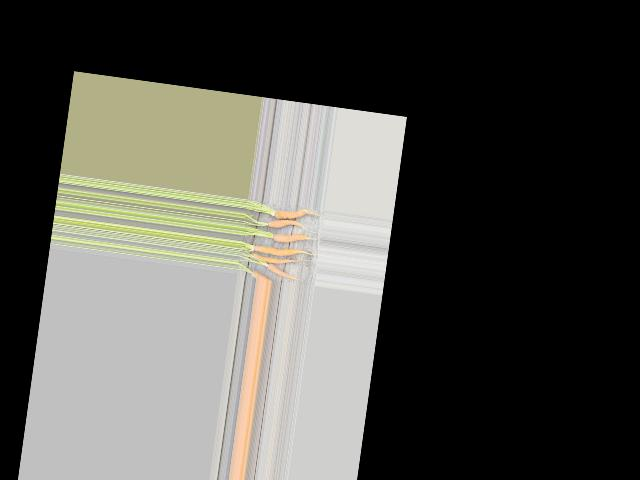carrot: (243, 266, 267, 280)
